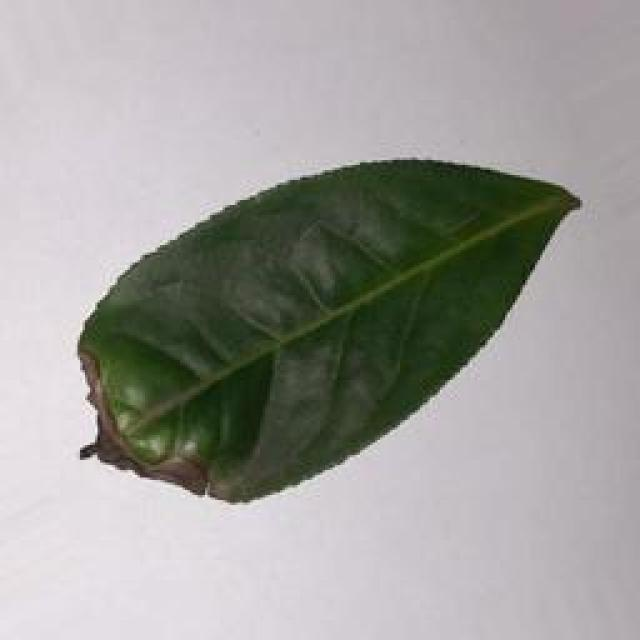Brown Blight: (33, 153, 591, 528)
